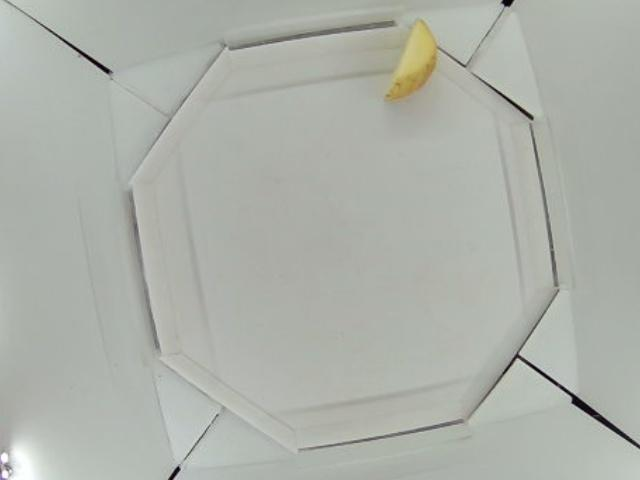Potato: (383, 20, 436, 101)
